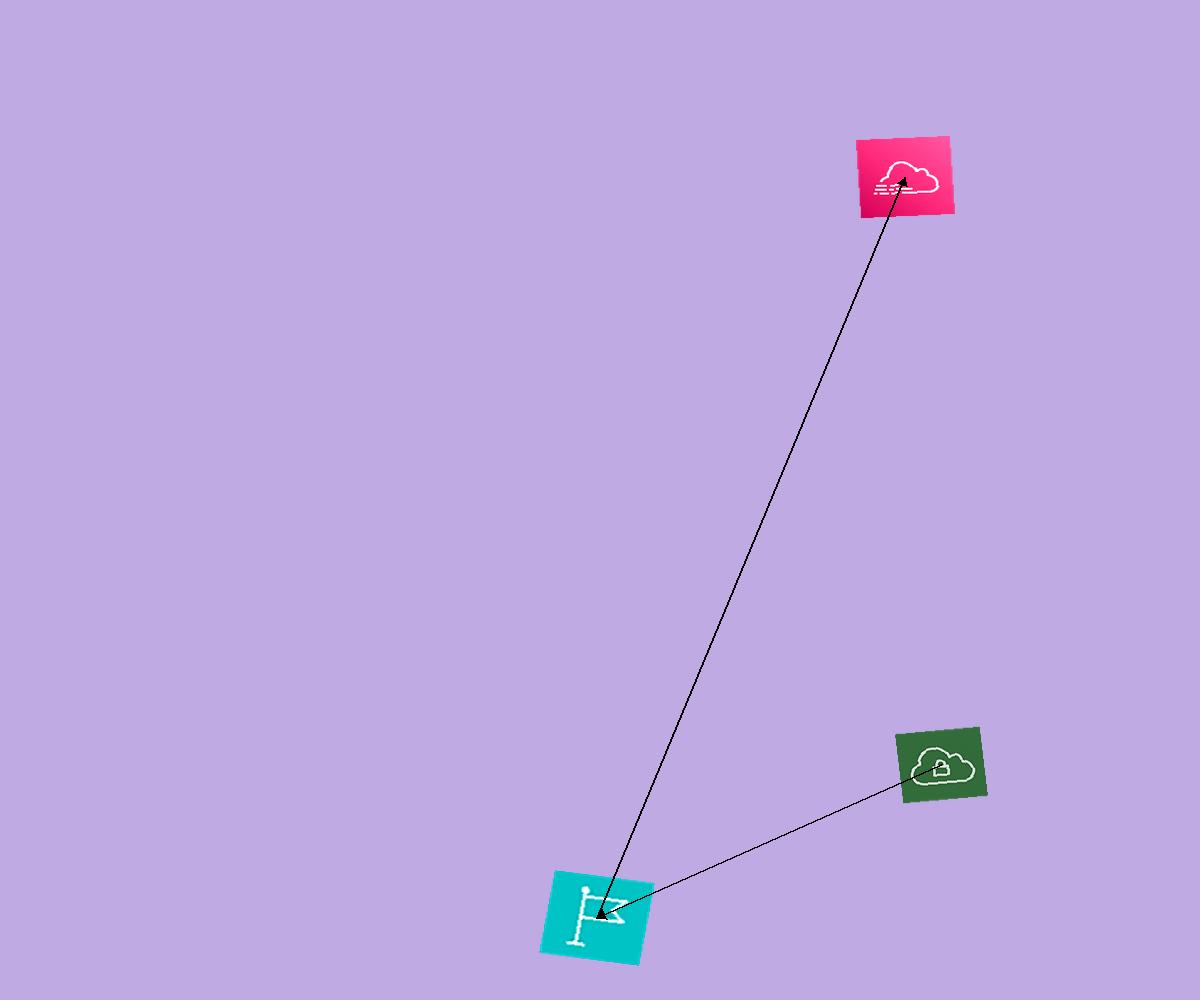AWS-CloudTrail: (855, 135, 956, 219)
AWS-Private_vpc: (895, 726, 988, 804)
AWS-Region: (539, 870, 655, 966)
